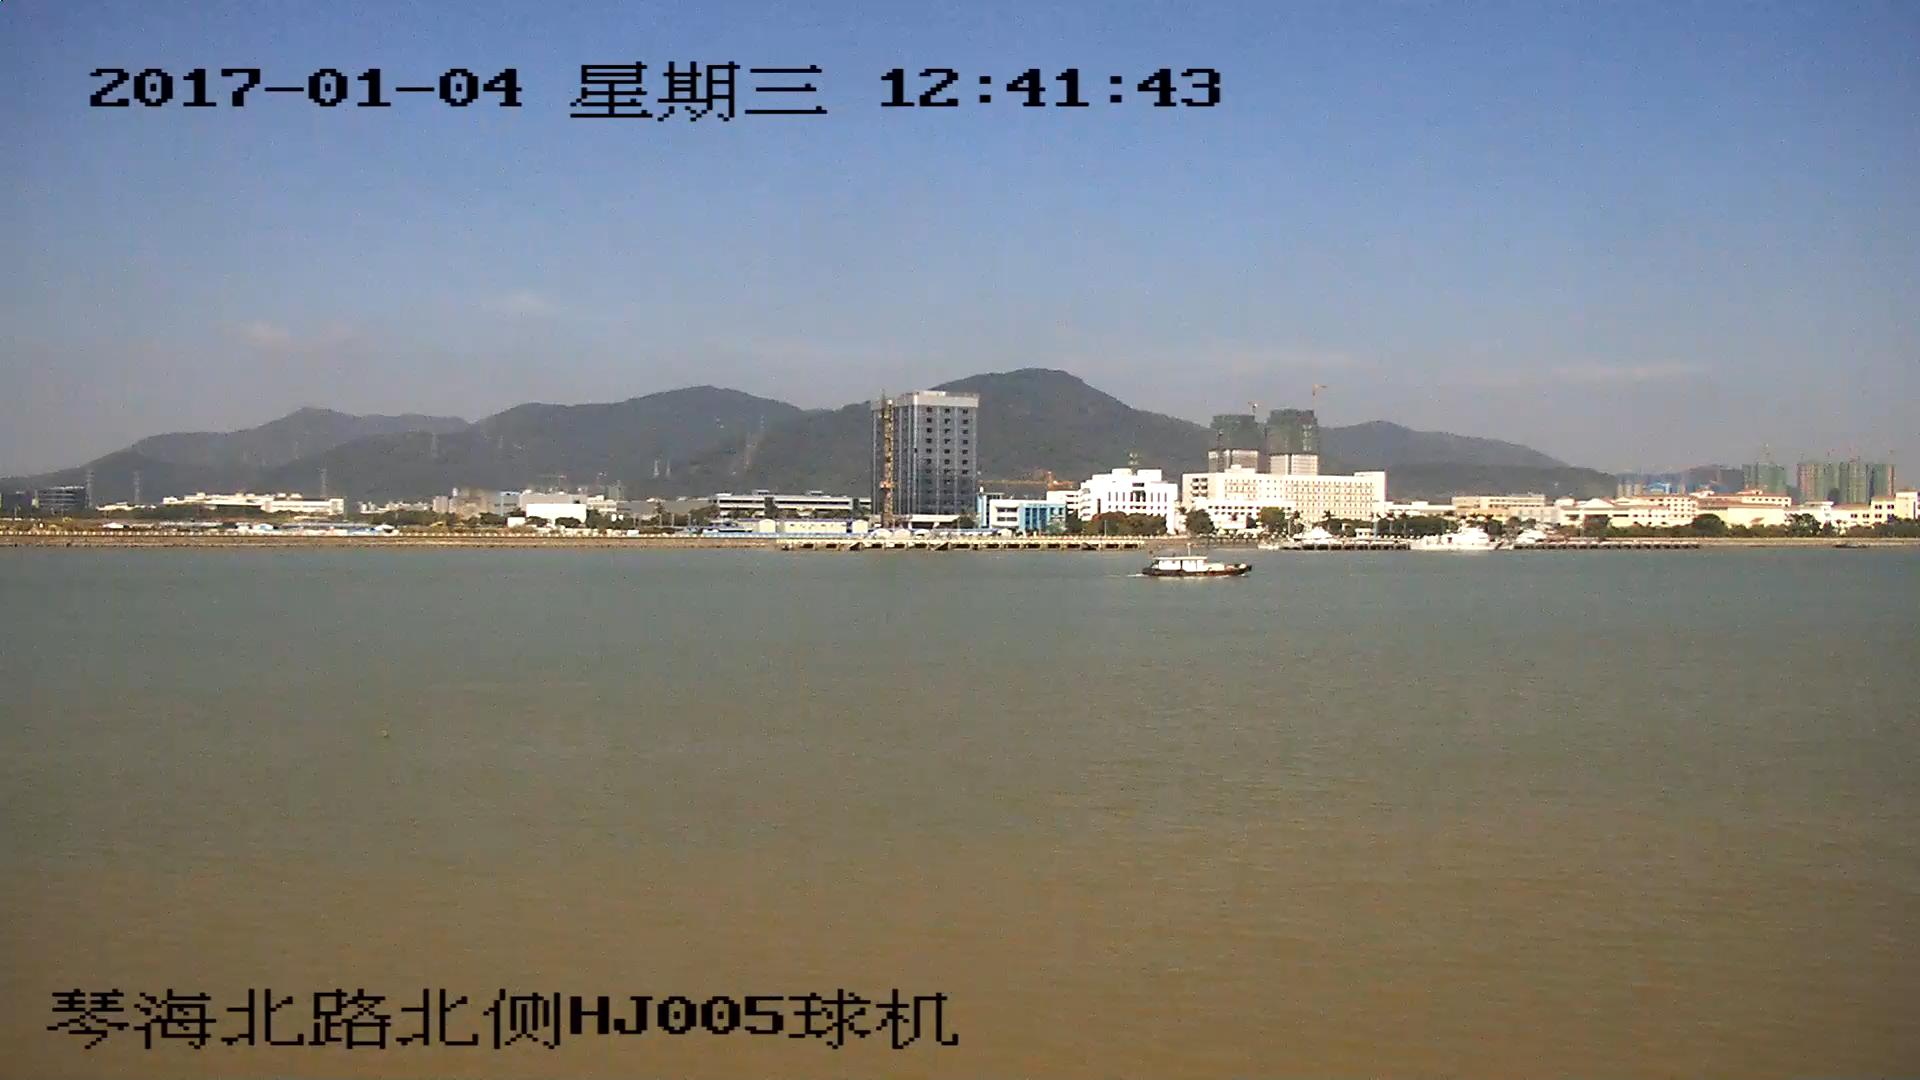fishing boat: (1143, 550, 1250, 576)
